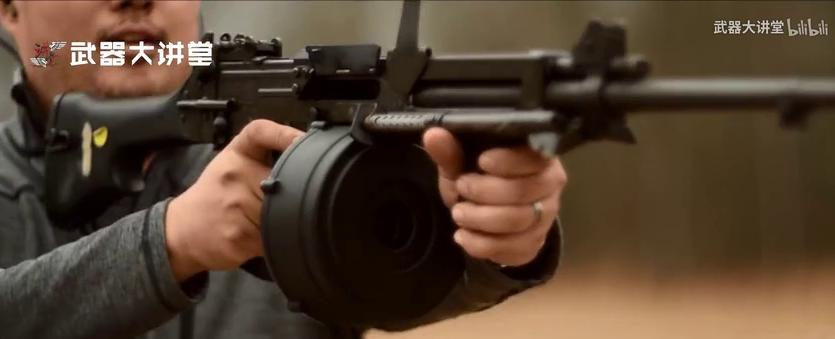gun: (1, 0, 835, 339)
